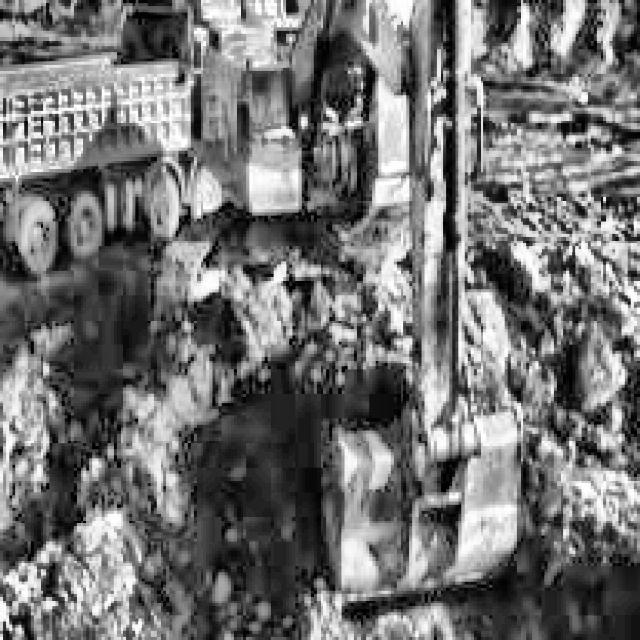dump_truck: (0, 10, 222, 258)
excavator: (197, 0, 526, 591)
